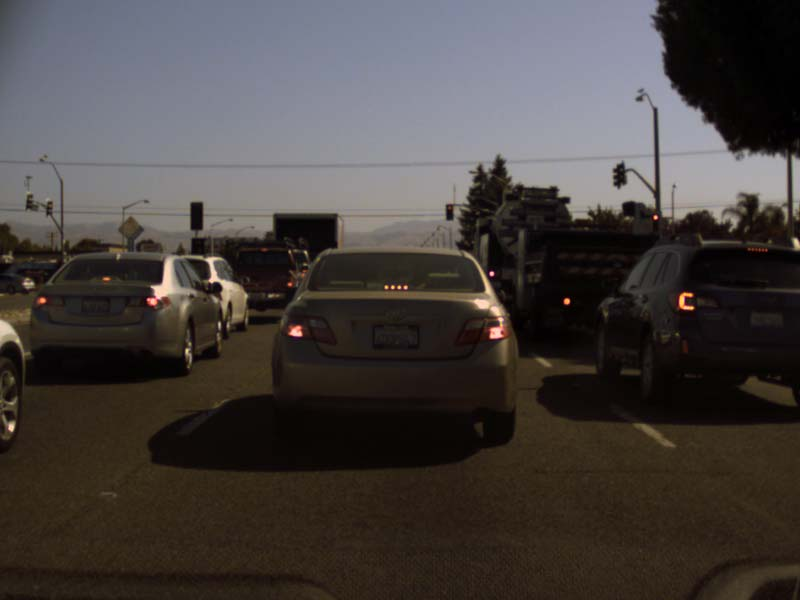Red: (651, 211, 659, 231), (445, 203, 453, 221)
